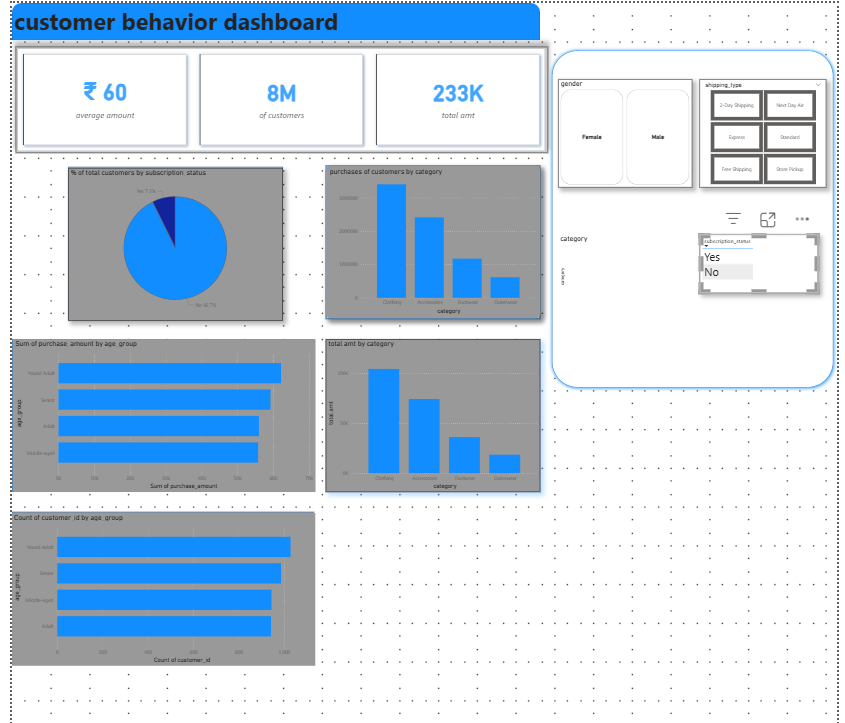

This screenshot's page, from the dashboard's own definition file:
{"tool":"powerbi","page":{"name":"Page 1","canvas":[2000,1800],"ordinal":0},"visuals":[{"type":"cardVisual","fields":{"Data":["trend table_name_in_mysql.average amount","trend table_name_in_mysql.of customers","trend table_name_in_mysql.total amt"]},"box":[10,105,1290,257.5],"z":0},{"type":"shape","box":[0,0,1280,90.4],"z":1000},{"type":"textbox","box":[0,0,1550,90],"z":2000},{"type":"shape","box":[135,397.5,520,370],"z":3000},{"type":"shape","box":[760,394,520,372],"z":4000},{"type":"shape","box":[760,815,520,370],"z":5000},{"type":"donutChart","title":"% of total customers by subscription_status","fields":{"Category":["trend table_name_in_mysql.subscription_status"],"Y":["Sum(trend table_name_in_mysql.customer_id)"]},"box":[135,400,520,370],"z":6000},{"type":"columnChart","title":"purchases of customers by category","fields":{"Y":["trend table_name_in_mysql.of customers"],"Category":["trend table_name_in_mysql.category"]},"box":[760,393.3,520,370],"z":7000},{"type":"columnChart","fields":{"Y":["trend table_name_in_mysql.total amt"],"Category":["trend table_name_in_mysql.category"]},"box":[760,815,520,370],"z":8000},{"type":"shape","box":[1300,105,700,835],"z":9000},{"type":"advancedSlicerVisual","fields":{"Values":["trend table_name_in_mysql.gender"]},"box":[1325,185,325,262.5],"z":10000},{"type":"clusteredBarChart","fields":{"Category":["trend table_name_in_mysql.category"]},"box":[1325,560,325,177.5],"z":11000},{"type":"slicer","fields":{"Values":["trend table_name_in_mysql.shipping_type"]},"box":[1667.5,185,307.5,262.5],"z":11001},{"type":"tableEx","fields":{"Values":["trend table_name_in_mysql.subscription_status"]},"box":[1667.5,560,287.5,142.5],"z":11002},{"type":"shape","box":[0,815,732.5,370],"z":11003},{"type":"clusteredBarChart","fields":{"Y":["Sum(trend table_name_in_mysql.purchase_amount)"],"Category":["trend table_name_in_mysql.age_group"]},"box":[2.5,815,732.5,370],"z":11004},{"type":"shape","box":[0,1232.5,732.5,370],"z":11005},{"type":"clusteredBarChart","fields":{"Category":["trend table_name_in_mysql.age_group"],"Y":["CountNonNull(trend table_name_in_mysql.customer_id)"]},"box":[0,1235,735,370],"z":11006}]}

Visuals, with their boxes in screenshot pixels (x1, y1, x2, y2):
cardVisual - trend table_name_in_mysql.average amount x trend table_name_in_mysql.of customers: BBox(15, 45, 546, 151)
shape: BBox(11, 2, 537, 39)
textbox: BBox(11, 2, 648, 39)
shape: BBox(67, 166, 280, 318)
shape: BBox(324, 164, 537, 317)
shape: BBox(324, 337, 537, 489)
"% of total customers by subscription_status" donutChart: BBox(67, 167, 280, 319)
"purchases of customers by category" columnChart: BBox(324, 164, 537, 316)
columnChart - trend table_name_in_mysql.total amt x trend table_name_in_mysql.category: BBox(324, 337, 537, 489)
shape: BBox(546, 45, 833, 389)
advancedSlicerVisual - trend table_name_in_mysql.gender: BBox(556, 78, 690, 186)
clusteredBarChart - trend table_name_in_mysql.category: BBox(556, 232, 690, 305)
slicer - trend table_name_in_mysql.shipping_type: BBox(697, 78, 823, 186)
tableEx - trend table_name_in_mysql.subscription_status: BBox(697, 232, 815, 291)
shape: BBox(11, 337, 312, 489)
clusteredBarChart - Sum(trend table_name_in_mysql.purchase_amount) x trend table_name_in_mysql.age_group: BBox(12, 337, 313, 489)
shape: BBox(11, 509, 312, 661)
clusteredBarChart - trend table_name_in_mysql.age_group x CountNonNull(trend table_name_in_mysql.customer_id): BBox(11, 510, 313, 662)
